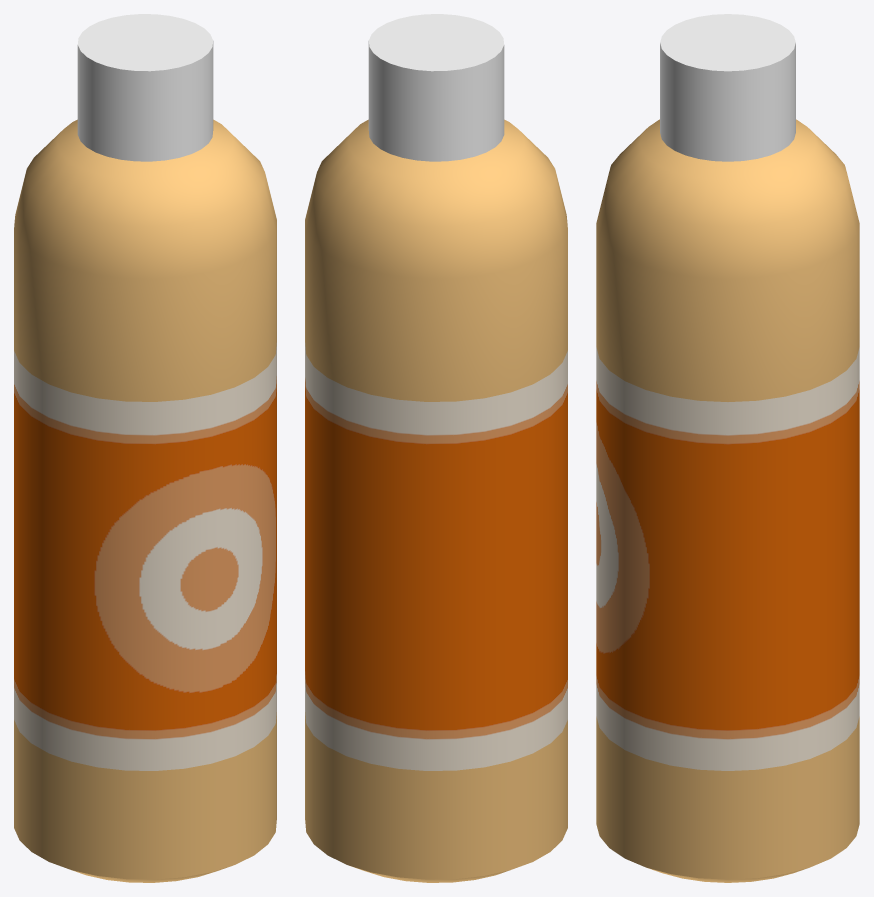
The model's file is Shampoo.fbx.
3 views of the same model, side by side, from view 1: azimuth 30°, elevation 25°; view 2: azimuth 150°, elevation 25°; view 3: azimuth 270°, elevation 25° (orthographic).
Visible parts, largest first — view 1: Shampoo; view 2: Shampoo; view 3: Shampoo.
Boxes of the visible parts, left/top/right/bottom form: Shampoo: left=14, top=14, right=276, bottom=882; Shampoo: left=305, top=14, right=567, bottom=882; Shampoo: left=596, top=14, right=859, bottom=882.
Bounding box in the file's own units: 0.066 × 0.22 × 0.066.
3 materials, 1 textured.
